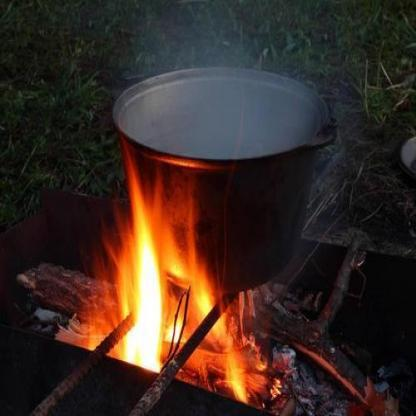Fire: (53, 147, 288, 411)
